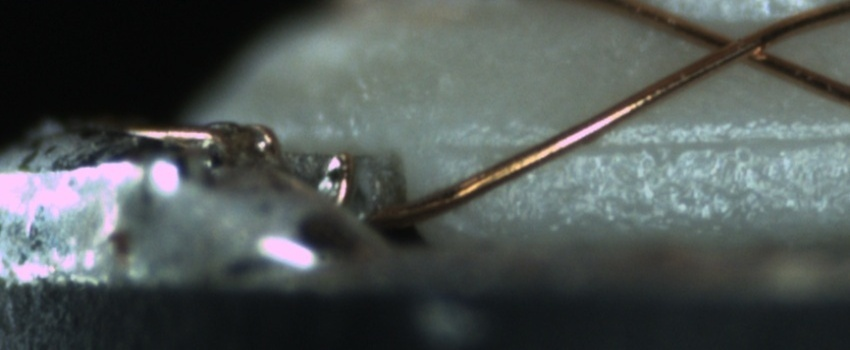CL: (695, 18, 790, 72)
DL: (440, 111, 849, 173)
TE: (112, 119, 360, 203)
